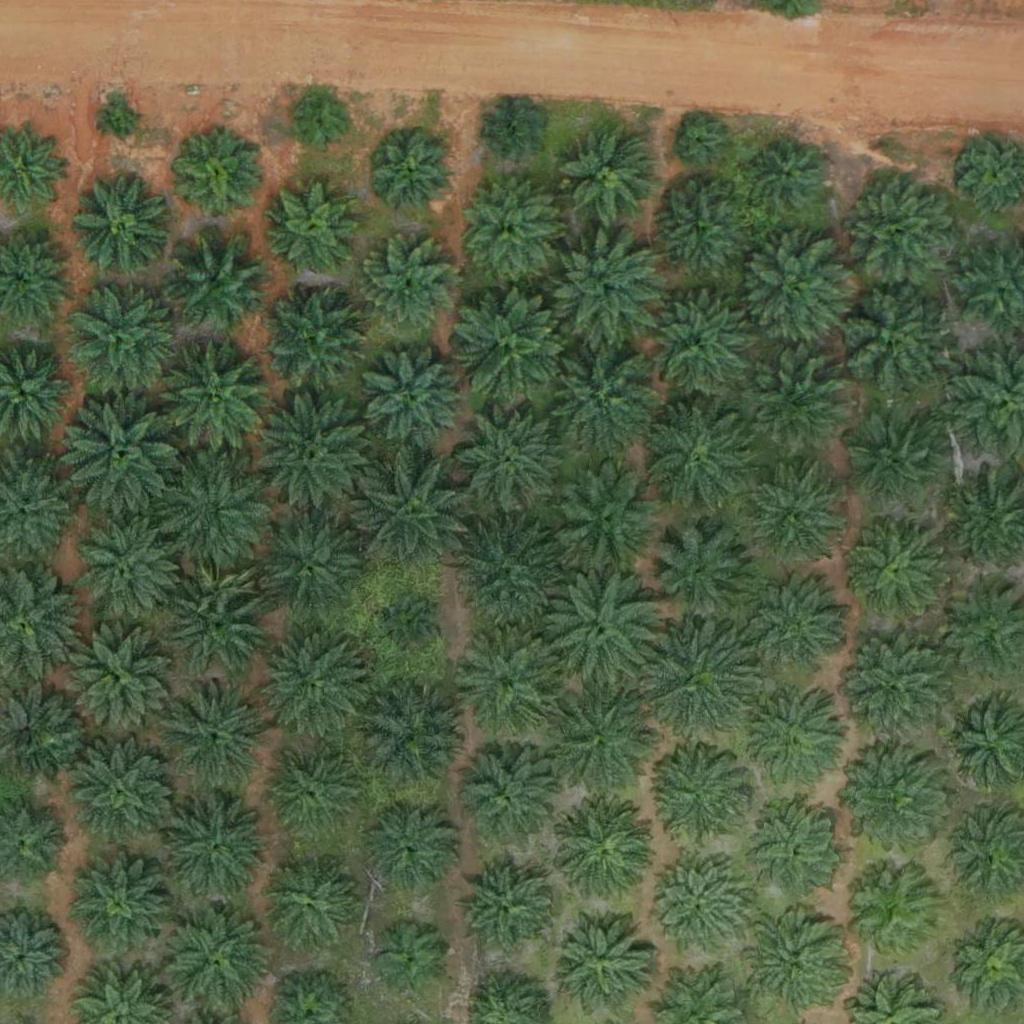Kelapa_Sawit: (56, 394, 181, 520), (149, 451, 274, 577), (245, 393, 370, 519), (350, 452, 475, 578), (451, 283, 576, 409), (447, 512, 572, 638), (534, 332, 659, 458), (544, 563, 669, 689), (639, 394, 764, 520), (634, 619, 759, 745), (839, 167, 964, 293), (827, 278, 952, 404), (832, 625, 957, 751), (540, 677, 665, 803), (635, 286, 760, 411), (159, 342, 272, 456), (259, 283, 372, 397), (358, 678, 471, 792), (251, 510, 364, 623), (256, 627, 369, 740), (548, 232, 661, 345), (549, 464, 662, 577), (644, 520, 757, 633), (743, 574, 856, 687), (835, 749, 948, 862), (731, 682, 844, 795), (164, 792, 277, 905), (161, 905, 274, 1018), (456, 627, 568, 741), (65, 277, 177, 390), (68, 513, 180, 626), (158, 562, 270, 675), (359, 344, 471, 457), (450, 401, 562, 514), (737, 235, 849, 348), (738, 347, 850, 460), (255, 741, 367, 854), (160, 675, 272, 788), (68, 631, 168, 732), (355, 237, 455, 338), (459, 178, 559, 279), (559, 126, 659, 227), (648, 180, 748, 281), (847, 414, 947, 515), (848, 515, 948, 616), (844, 861, 944, 962), (746, 802, 846, 903), (744, 913, 844, 1014), (647, 746, 747, 847), (261, 855, 361, 956), (72, 745, 172, 846), (66, 856, 166, 957), (72, 172, 172, 272), (167, 230, 267, 330), (649, 855, 749, 955), (552, 804, 652, 904), (552, 914, 652, 1014), (452, 748, 552, 848), (459, 861, 559, 961), (360, 803, 460, 903), (270, 182, 358, 270), (369, 131, 457, 219), (750, 470, 838, 558), (176, 136, 263, 224), (371, 918, 446, 994), (751, 139, 826, 214), (380, 598, 443, 661), (481, 101, 544, 164), (291, 94, 353, 157), (676, 118, 726, 168), (103, 102, 140, 140)
